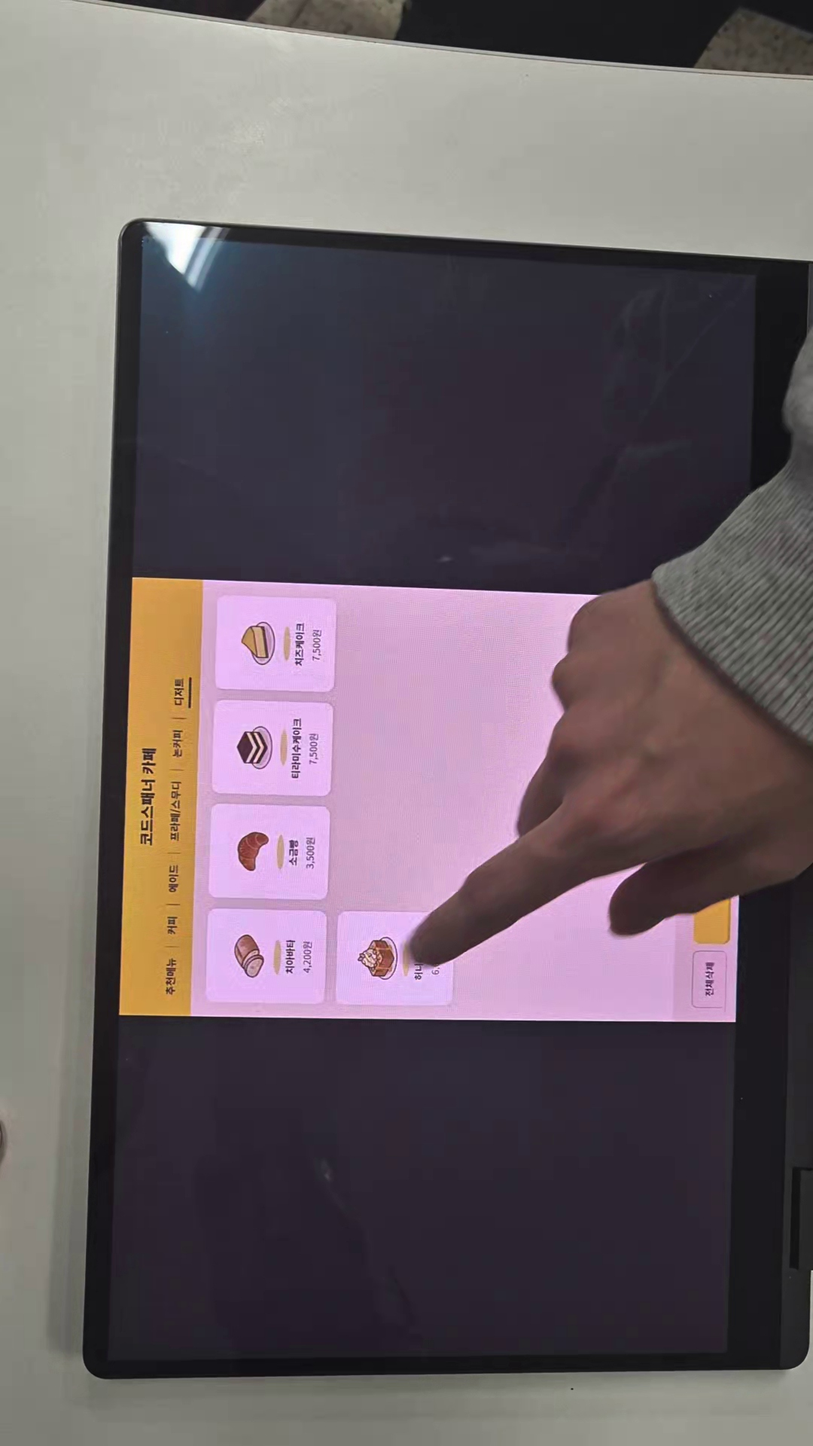action_button: (693, 950, 732, 1011)
category_tab: (166, 778, 184, 845), (160, 956, 182, 995), (167, 672, 187, 713), (168, 726, 184, 762), (166, 862, 182, 895), (164, 912, 176, 938)
menu_back: (212, 701, 332, 796), (211, 805, 328, 901), (218, 598, 338, 691), (206, 910, 325, 1002), (339, 909, 452, 1001)
menu_name: (288, 715, 305, 778), (293, 618, 305, 669), (285, 933, 298, 976), (286, 835, 301, 868)
menu_price: (303, 828, 320, 875), (299, 938, 317, 978), (306, 728, 320, 771), (309, 625, 322, 665)
